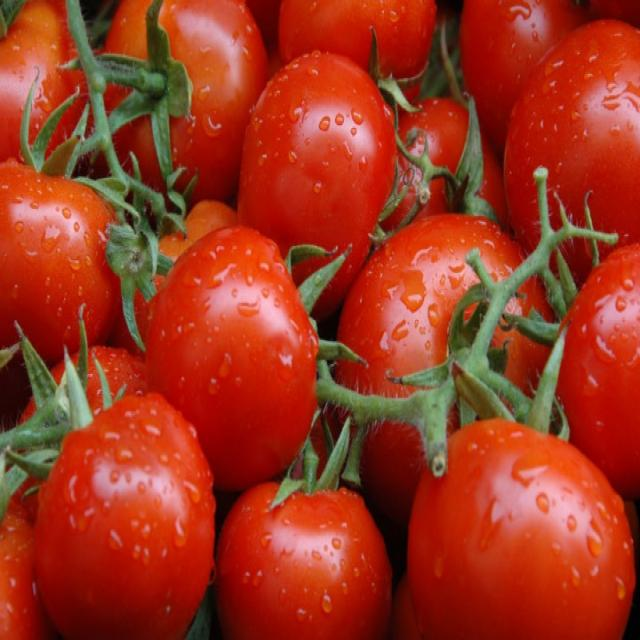ripe tomato: (406, 394, 635, 633), (337, 209, 550, 465), (474, 9, 637, 329), (140, 220, 332, 490), (29, 378, 216, 636), (88, 6, 277, 217), (242, 56, 399, 308), (217, 474, 390, 630), (0, 153, 124, 338), (560, 222, 637, 496), (408, 73, 514, 265), (3, 14, 104, 172), (455, 8, 578, 116)
